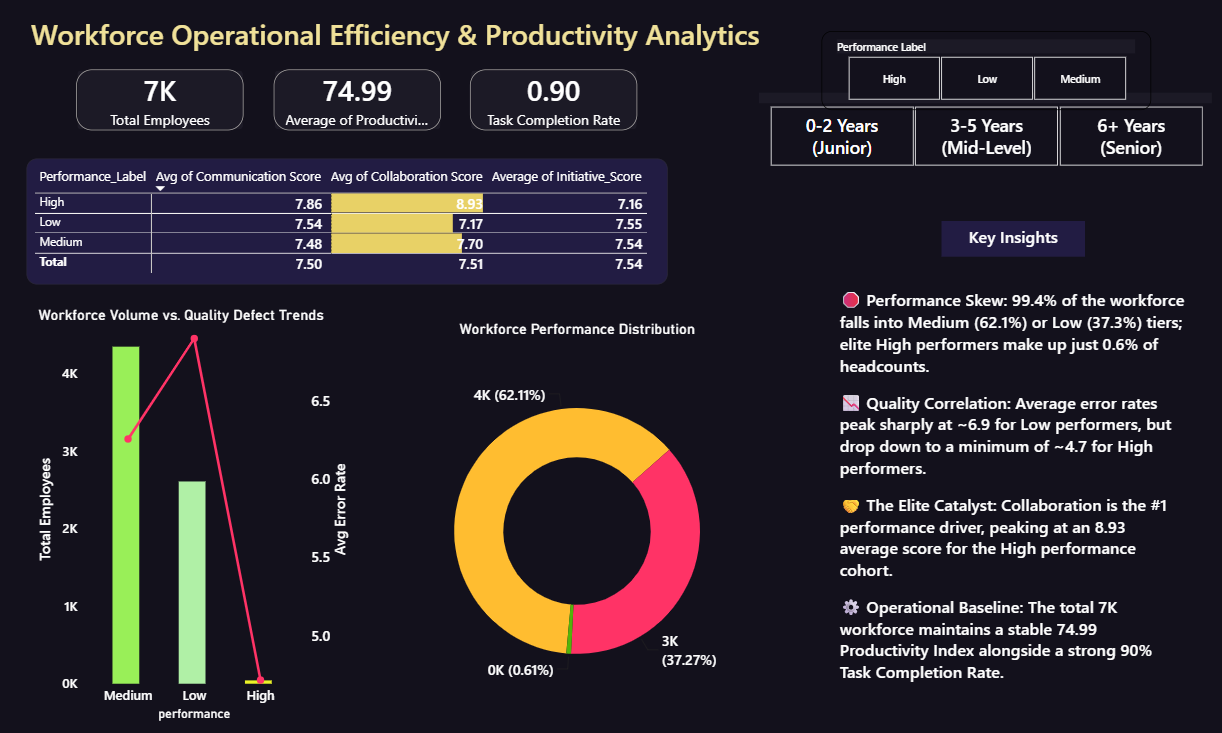

What the dashboard file says about the page in this screenshot:
{"tool":"powerbi","page":{"name":"Operational Overview","canvas":[1400,850],"ordinal":0},"visuals":[{"type":"slicer","fields":{"Values":["employee_performance_dataset.Experience Tier"]},"box":[856.2,106.2,543.8,95.3],"z":0},{"type":"slicer","fields":{"Values":["employee_performance_dataset.Performance_Label"]},"box":[940.6,40.6,376.6,90.6],"z":1000},{"type":"donutChart","title":"Workforce Performance Distribution","fields":{"Category":["employee_performance_dataset.Performance_Label"],"Series":["employee_performance_dataset.Performance_Label"],"Y":["_All_Measures.Total Employees"]},"box":[434.4,370.3,453.1,464.1],"z":2000},{"type":"lineStackedColumnComboChart","title":"Workforce Volume vs. Quality Defect Trends","fields":{"Category":["employee_performance_dataset.Performance_Label"],"Y2":["_All_Measures.Avg Error Rate"],"Y":["_All_Measures.Total Employees"]},"box":[40.6,354.7,368.8,479.7],"z":3000},{"type":"cardVisual","fields":{"Data":["_All_Measures.Task Completion Rate"]},"box":[521.9,67.2,225,103.1],"z":4000},{"type":"textbox","box":[31.2,17.2,865.6,68.8],"z":5000},{"type":"pivotTable","fields":{"Rows":["employee_performance_dataset.Performance_Label"],"Values":["Avg(employee_performance_dataset.Communication_Score)","Avg(employee_performance_dataset.Collaboration_Score)","Avg(employee_performance_dataset.Initiative_Score)"]},"box":[31.2,185.9,732.8,143.8],"z":6000},{"type":"cardVisual","fields":{"Data":["Avg(employee_performance_dataset.Productivity_Index)"]},"box":[296.9,67.2,225,103.1],"z":7000},{"type":"cardVisual","fields":{"Data":["_All_Measures.Total Employees"]},"box":[71.9,67.2,225,103.1],"z":8000},{"type":"textbox","box":[956.2,329.7,404.7,481.2],"z":9000},{"type":"textbox","box":[1076.6,257.8,164.1,40.6],"z":10000}]}

Visuals, with their boxes in screenshot pixels (x1, y1, x2, y2), scaled from the page's 1400x850 canvas onto the 1222x733 screenshot:
slicer - employee_performance_dataset.Experience Tier: bbox(747, 92, 1221, 174)
slicer - employee_performance_dataset.Performance_Label: bbox(821, 35, 1150, 113)
"Workforce Performance Distribution" donutChart: bbox(379, 319, 775, 720)
"Workforce Volume vs. Quality Defect Trends" lineStackedColumnComboChart: bbox(35, 306, 357, 720)
cardVisual - _All_Measures.Task Completion Rate: bbox(456, 58, 652, 147)
textbox: bbox(27, 15, 783, 74)
pivotTable - employee_performance_dataset.Performance_Label x Avg(employee_performance_dataset.Communication_Score): bbox(27, 160, 667, 284)
cardVisual - Avg(employee_performance_dataset.Productivity_Index): bbox(259, 58, 456, 147)
cardVisual - _All_Measures.Total Employees: bbox(63, 58, 259, 147)
textbox: bbox(835, 284, 1188, 699)
textbox: bbox(940, 222, 1083, 257)
